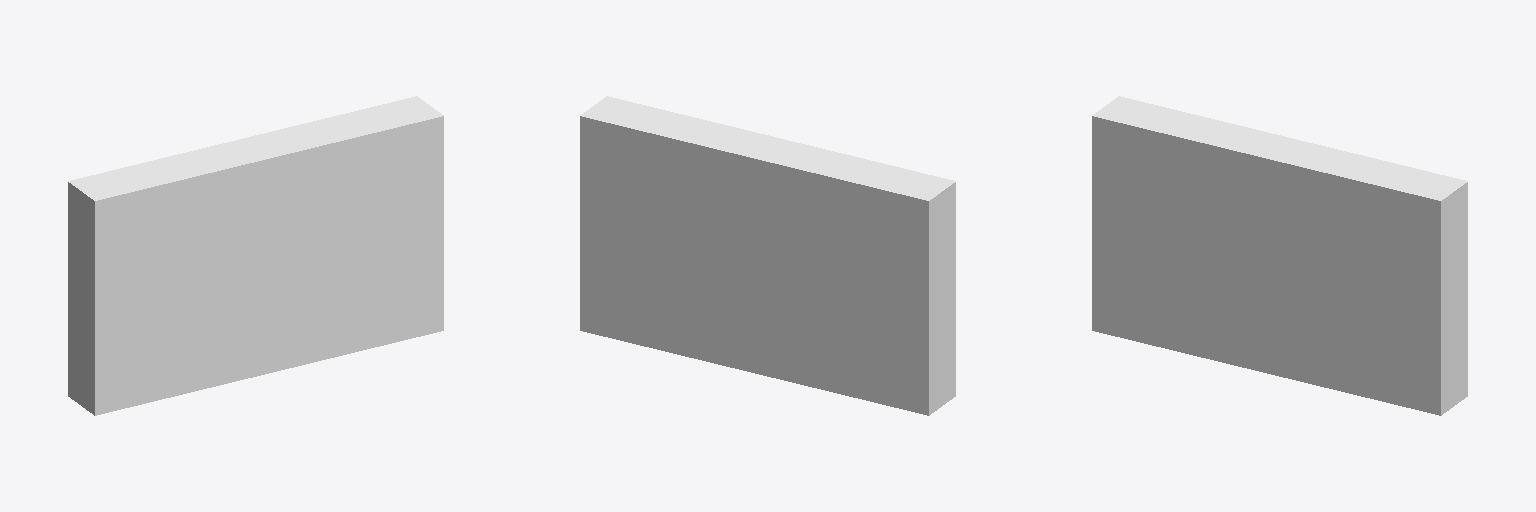
The model's file is ScoreBoard.obj.
The picture shows the model from 3 angles: view 1: azimuth 30°, elevation 25°; view 2: azimuth 150°, elevation 25°; view 3: azimuth 330°, elevation 25°; orthographic projection.
Size of the model in its own units: 126 by 74 by 17.